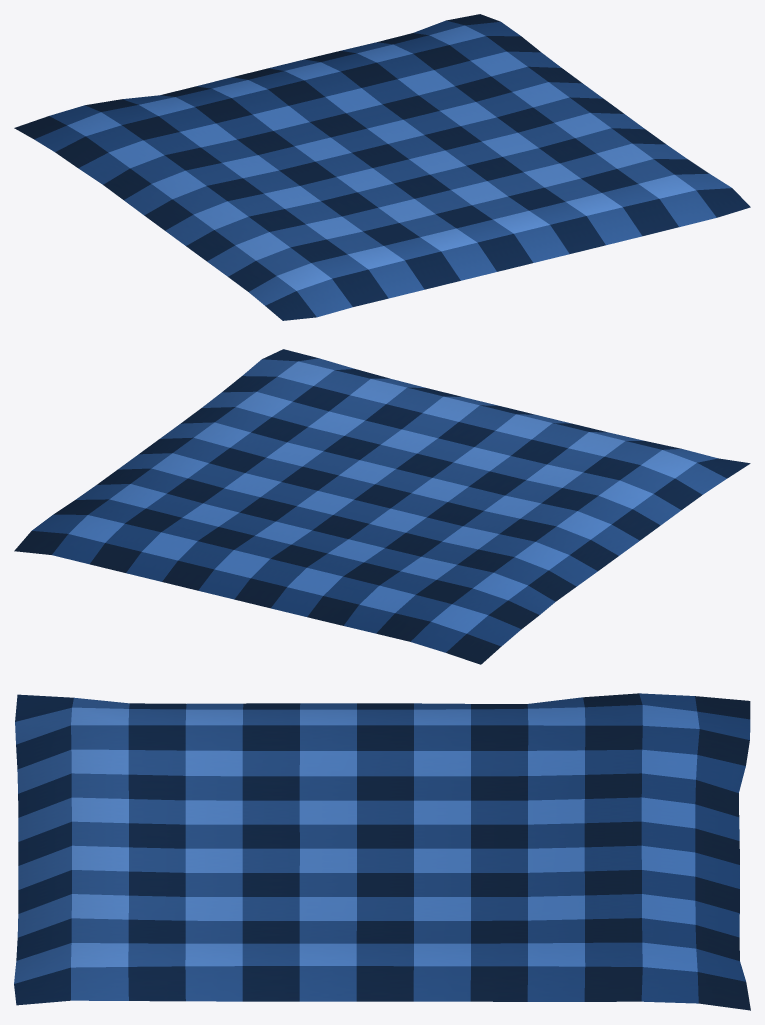
File: SM_Tablecloth.fbx
The picture shows the model from 3 angles, top to bottom: view 1: azimuth 30°, elevation 25°; view 2: azimuth 150°, elevation 25°; view 3: azimuth 270°, elevation 25°; orthographic projection. The views are drawn at different scales.
Visible parts, largest first — view 1: SM_Tablecloth; view 2: SM_Tablecloth; view 3: SM_Tablecloth.
Part boxes in pixels (<box>): SM_Tablecloth: <box>14,14,750,320</box>; SM_Tablecloth: <box>14,349,750,664</box>; SM_Tablecloth: <box>14,693,750,1010</box>.
Bounding box in the file's own units: 238 × 7.64 × 238.
